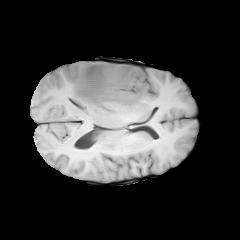glioma: (71, 62, 147, 114)
